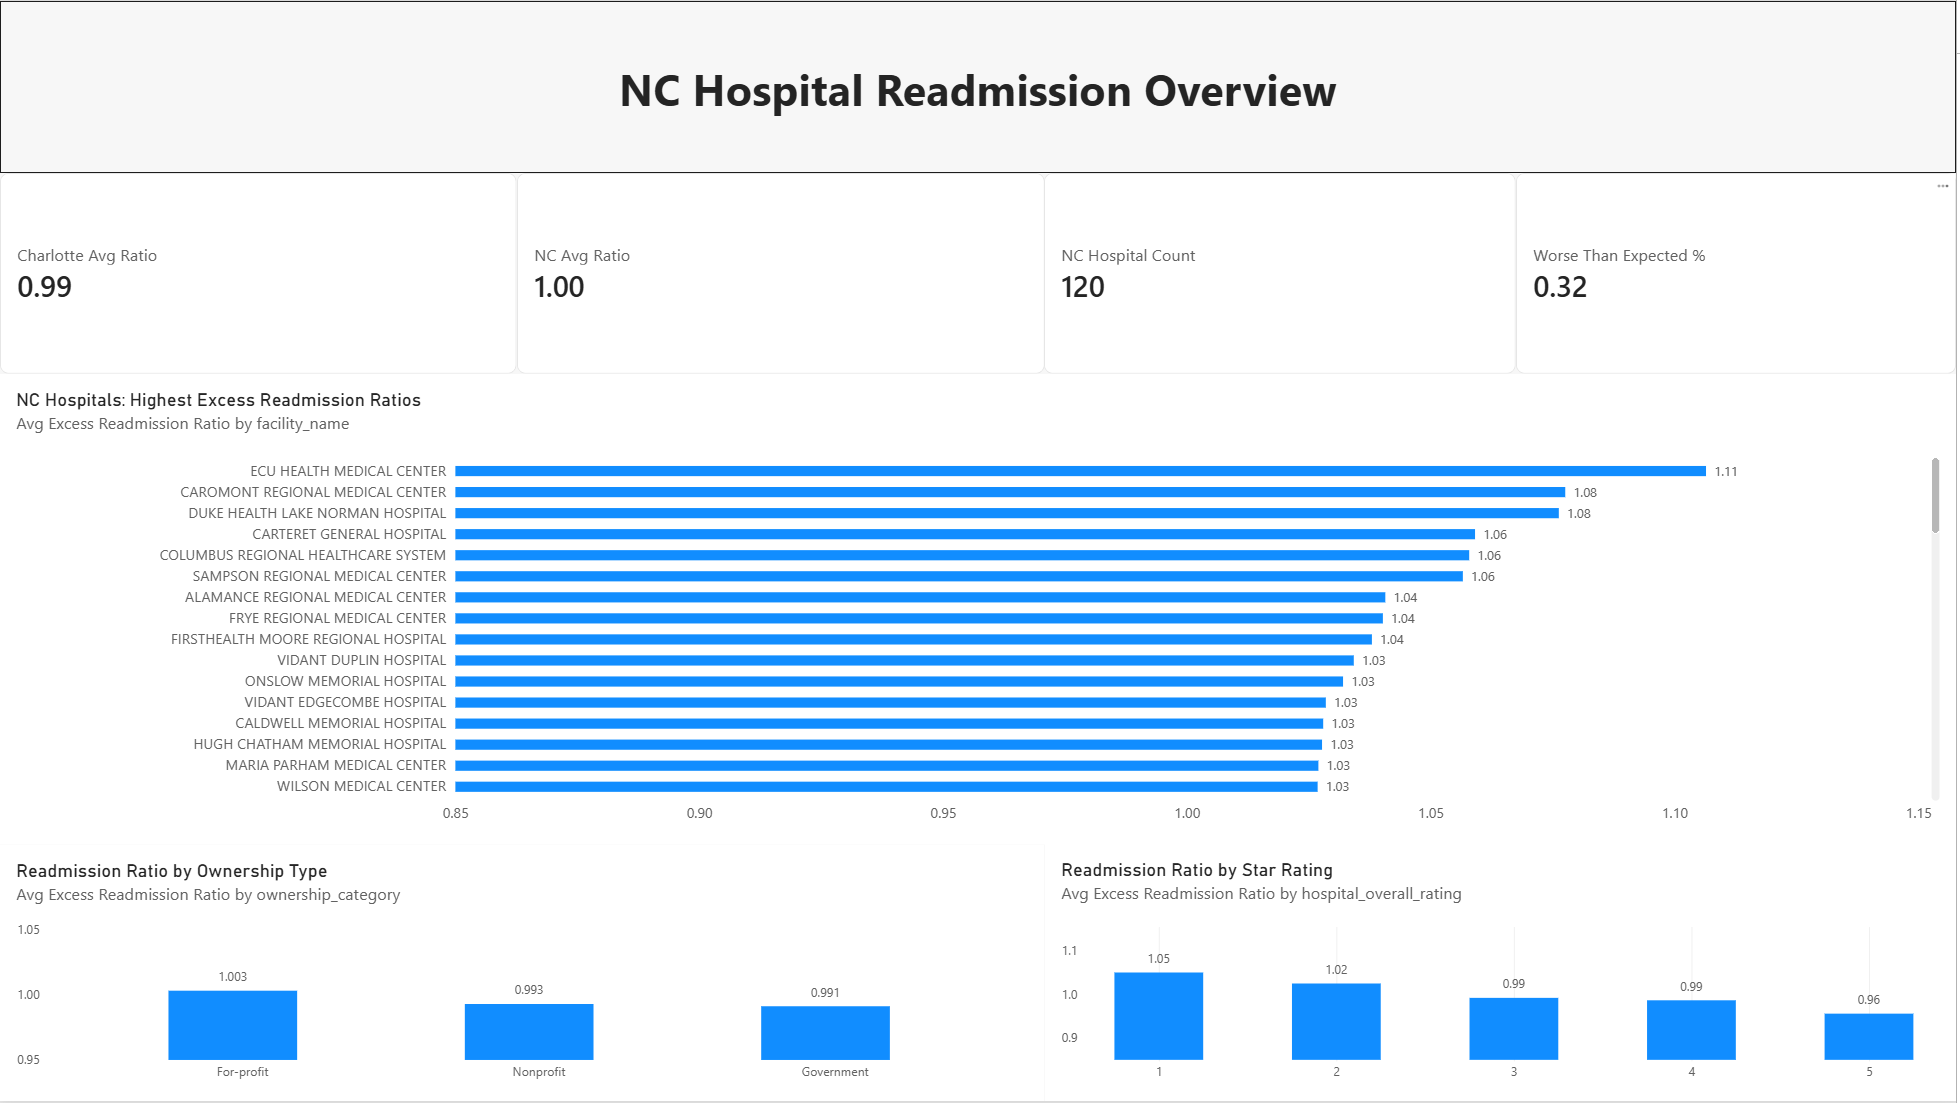

Layout of this report page (visuals, bound fields, positions):
{"tool":"powerbi","page":{"name":"NC Overview","canvas":[1920,1080],"ordinal":0},"visuals":[{"type":"cardVisual","fields":{"Data":["clean_hcahps.NC Avg Ratio"]},"box":[507,169,518,197],"z":0},{"type":"cardVisual","fields":{"Data":["clean_hcahps.Worse Than Expected %"]},"box":[1488,169,432,197],"z":1000},{"type":"cardVisual","fields":{"Data":["nc_hospital_readmission_summary.NC Hospital Count"]},"box":[1025,169,463,197],"z":2000},{"type":"cardVisual","fields":{"Data":["clean_hcahps.Charlotte Avg Ratio"]},"box":[0,169,507,197],"z":3000},{"type":"barChart","title":"NC Hospitals: Highest Excess Readmission Ratios","fields":{"Category":["nc_hospital_readmission_summary.facility_name"],"Y":["clean_hcahps.Avg Excess Readmission Ratio"]},"box":[0,365.8,1920,461.8],"z":4000},{"type":"clusteredColumnChart","title":"Readmission Ratio by Star Rating","fields":{"Category":["nc_hospital_readmission_summary.hospital_overall_rating"],"Y":["clean_hcahps.Avg Excess Readmission Ratio"]},"box":[1025.5,827.6,894.5,252.9],"z":5000},{"type":"clusteredColumnChart","title":"Readmission Ratio by Ownership Type","fields":{"Category":["nc_hospital_readmission_summary.ownership_category"],"Y":["clean_hcahps.Avg Excess Readmission Ratio"]},"box":[0,828,1025,252],"z":6000},{"type":"textbox","box":[0,0,1920,169],"z":6001}]}

Visuals, with their boxes in screenshot pixels (x1, y1, x2, y2), scaled from the page's 1920x1080 canvas onto the 1960x1103 screenshot:
cardVisual - clean_hcahps.NC Avg Ratio: <box>518,173,1046,374</box>
cardVisual - clean_hcahps.Worse Than Expected %: <box>1519,173,1959,374</box>
cardVisual - nc_hospital_readmission_summary.NC Hospital Count: <box>1046,173,1519,374</box>
cardVisual - clean_hcahps.Charlotte Avg Ratio: <box>0,173,518,374</box>
"NC Hospitals: Highest Excess Readmission Ratios" barChart: <box>0,374,1959,845</box>
"Readmission Ratio by Star Rating" clusteredColumnChart: <box>1047,845,1959,1102</box>
"Readmission Ratio by Ownership Type" clusteredColumnChart: <box>0,846,1046,1102</box>
textbox: <box>0,0,1959,173</box>
